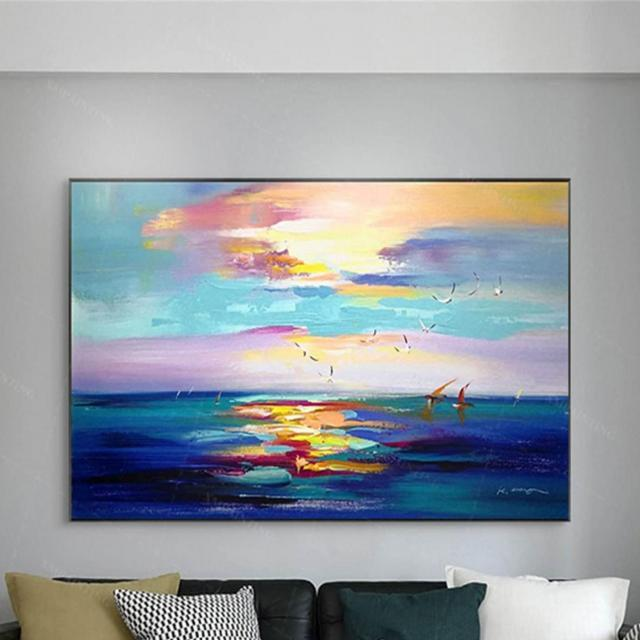painting: (70, 180, 567, 518)
